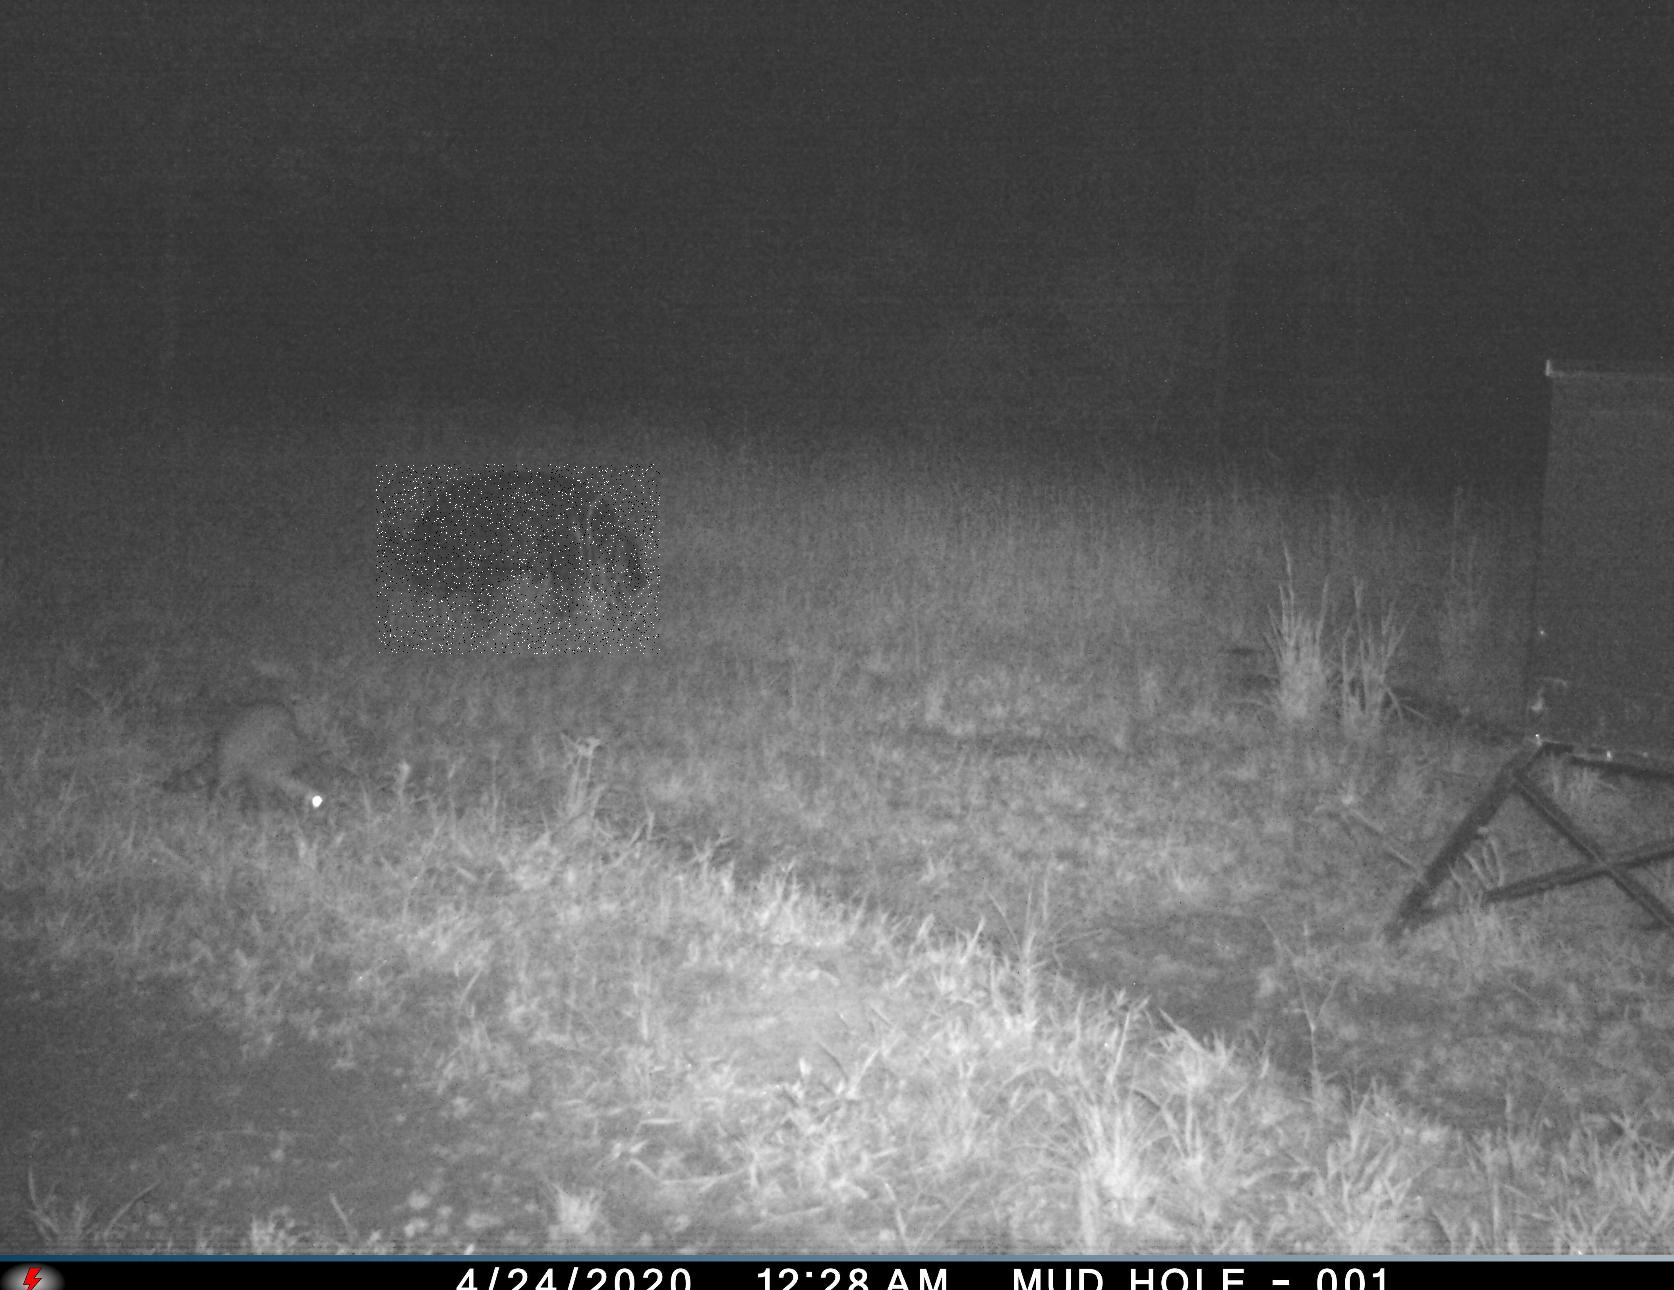Hog: (375, 463, 660, 654)
